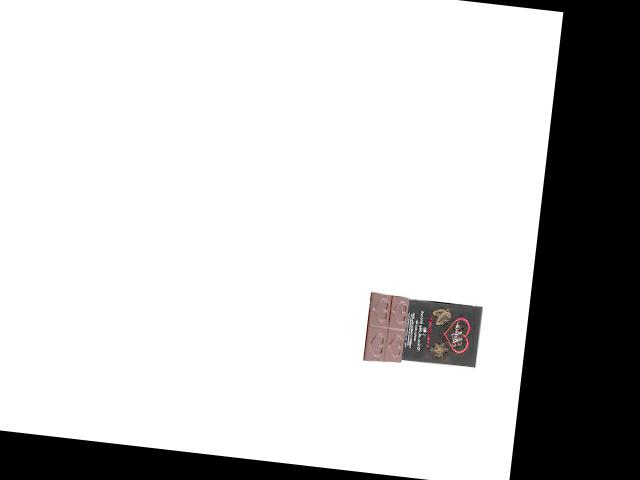chocolate: (358, 289, 484, 378)
